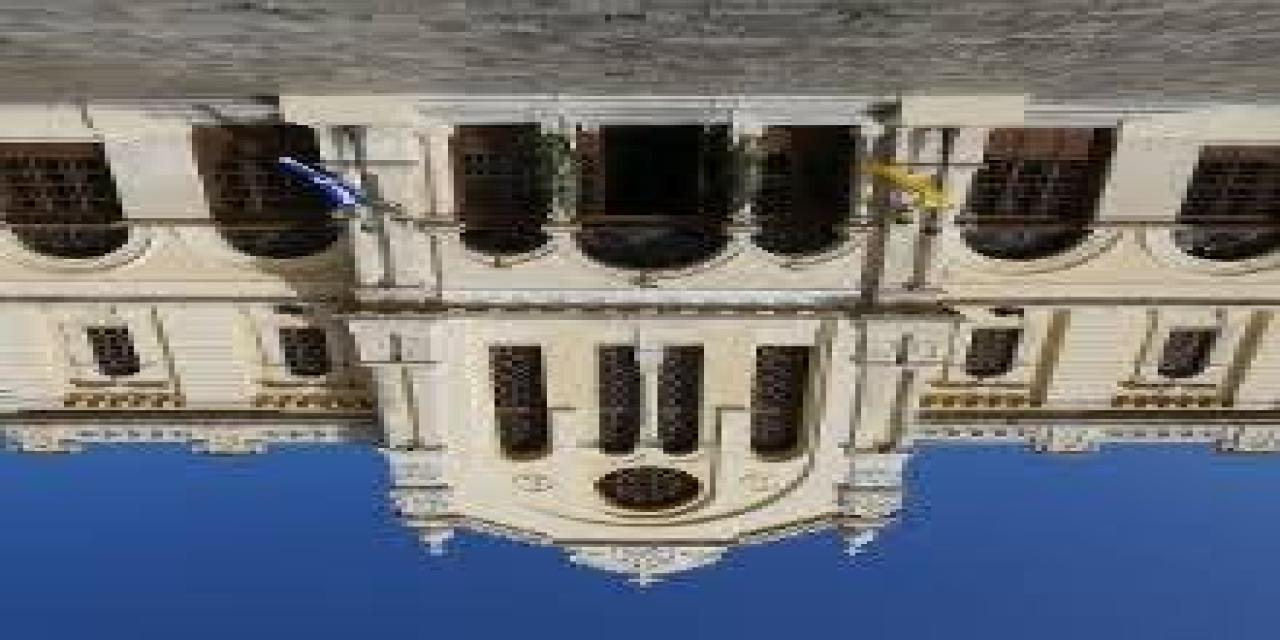Agios Minas: (2, 101, 1280, 600)
